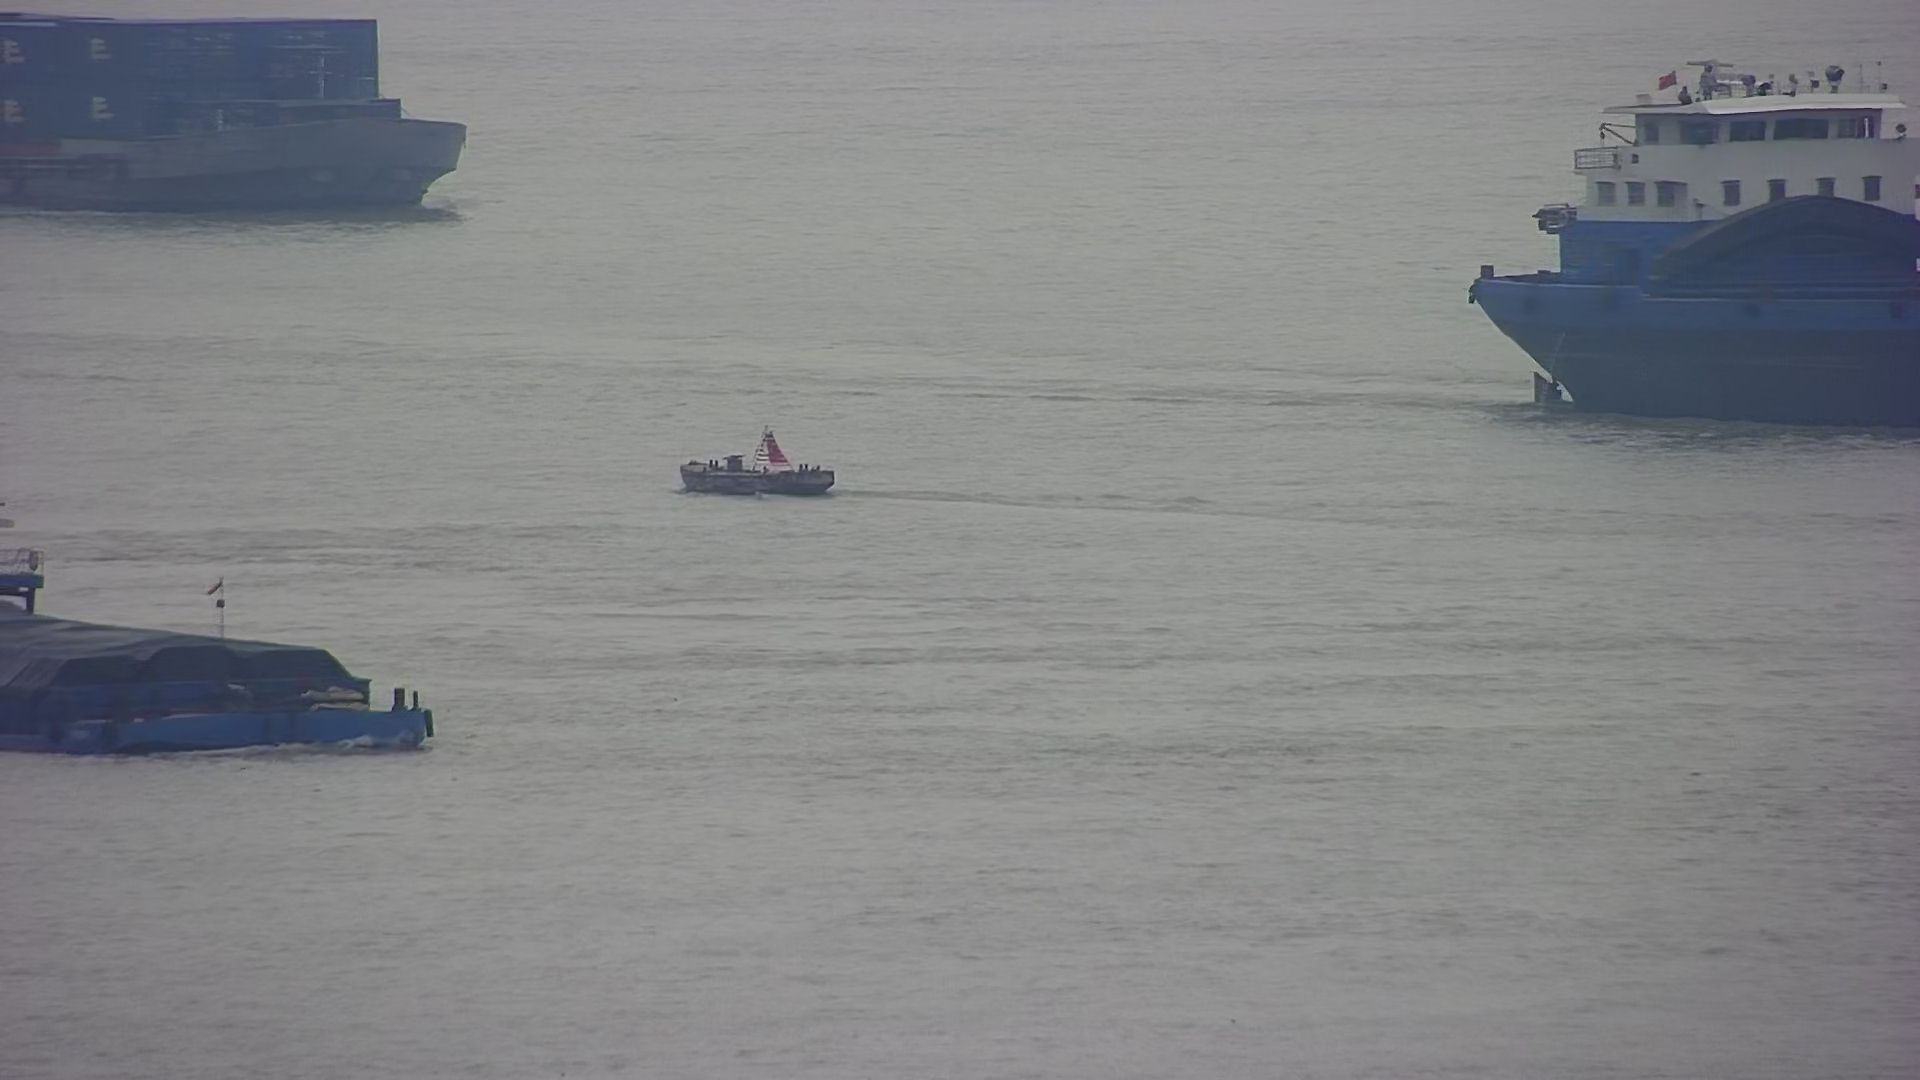boat: (683, 426, 840, 501)
ship: (1464, 55, 1920, 434), (3, 506, 440, 758), (1, 9, 469, 214)
